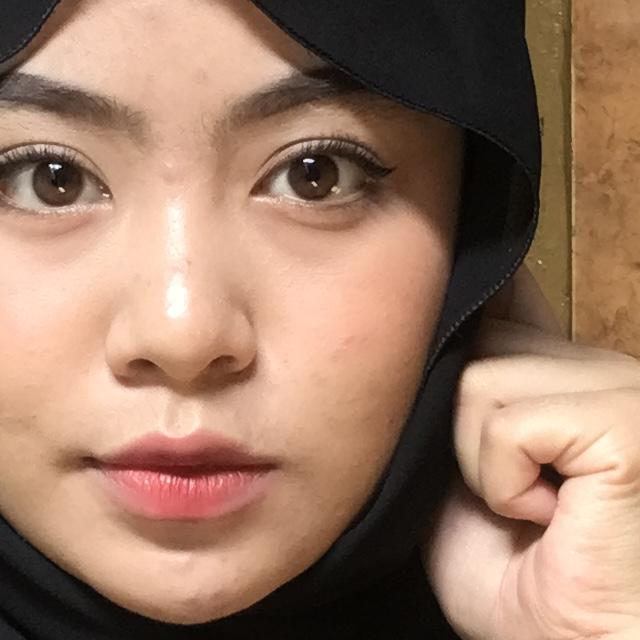ibu: (400, 256, 640, 640)
